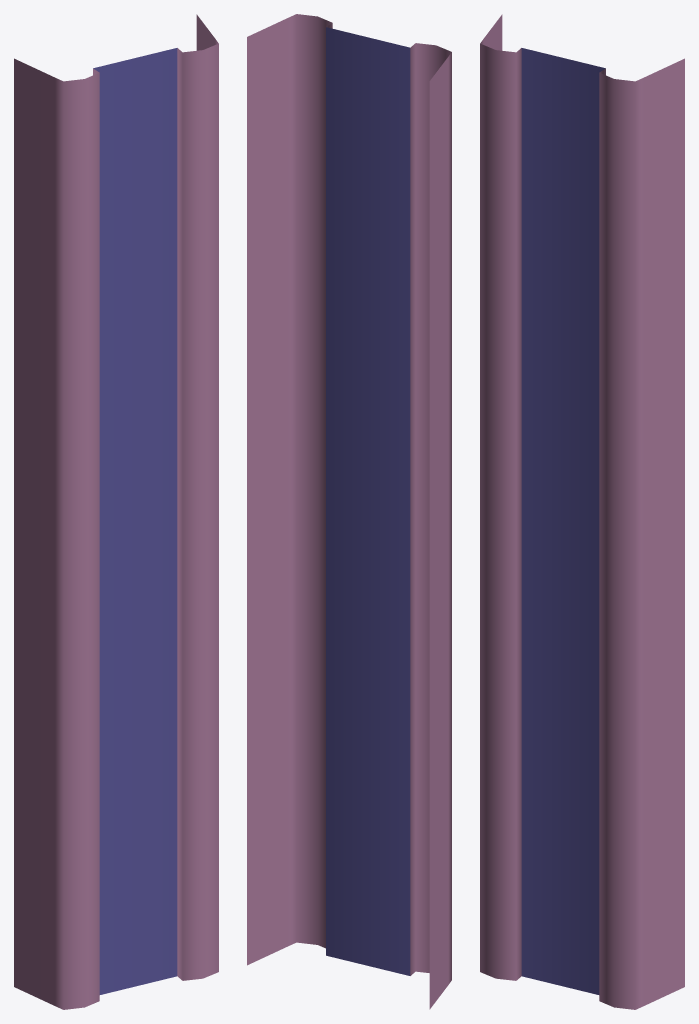
Rendered from L3_wall_segment.fbx.
3 views of the same model, side by side, from view 1: azimuth 30°, elevation 25°; view 2: azimuth 150°, elevation 25°; view 3: azimuth 330°, elevation 25° (orthographic).
Visible parts, largest first — view 1: L3_wall_segment; view 2: L3_wall_segment; view 3: L3_wall_segment.
Part boxes in pixels (x1,y1,x2,y2): L3_wall_segment: (14,14,218,1009); L3_wall_segment: (247,14,451,1009); L3_wall_segment: (480,14,684,1009).
Bounding box in the file's own units: 18.52 × 90.08 × 6.79.
